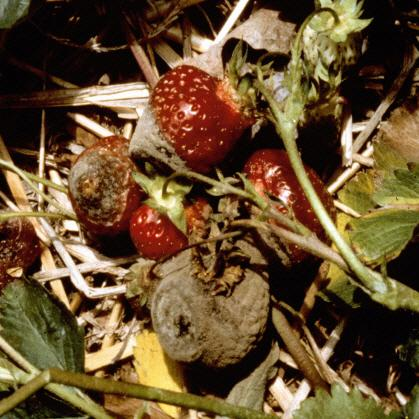Gray Mold: (149, 219, 270, 368), (130, 65, 265, 178), (69, 134, 146, 235)
